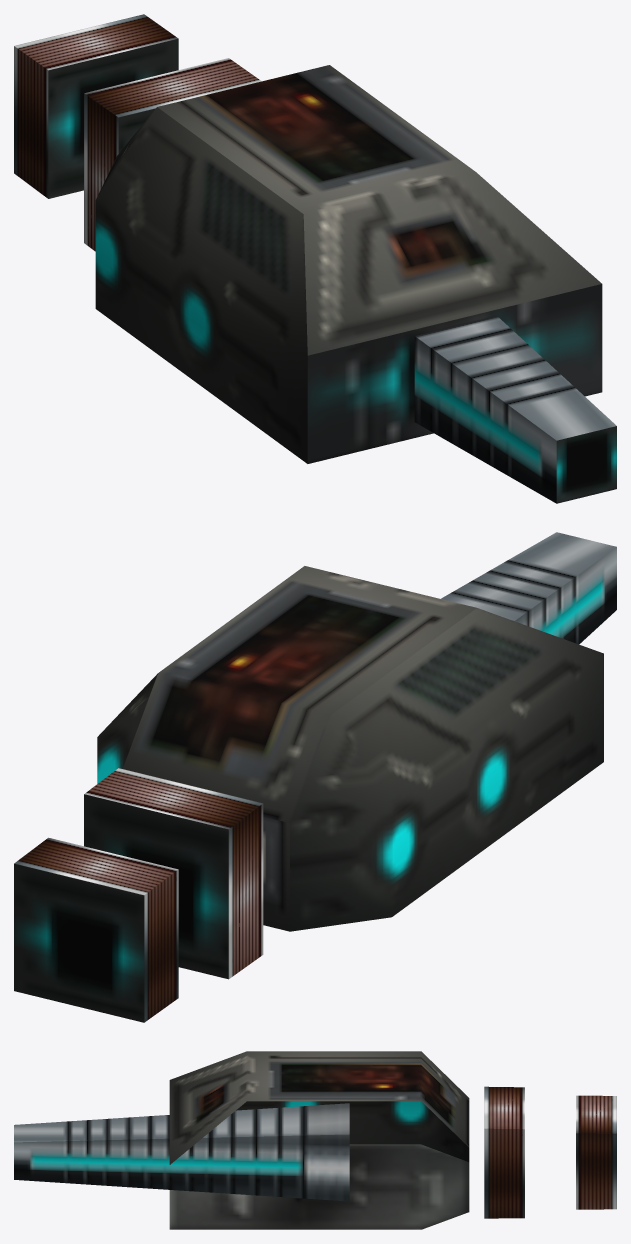
File: acs56_static.obj
3 views of the same model, one above another, from view 1: azimuth 30°, elevation 25°; view 2: azimuth 150°, elevation 25°; view 3: azimuth 270°, elevation 25° (orthographic). The views are drawn at different scales.
Parts seen in each view (by area): view 1: frm-wepbas, frm-wepbar1, frm-wepbar2, frm-wepbar3; view 2: frm-wepbas, frm-wepbar2, frm-wepbar3, frm-wepbar1; view 3: frm-wepbas, frm-wepbar1, frm-wepbar3, frm-wepbar2.
Part boxes in pixels (x1=…): frm-wepbas: x1=95, y1=65, x2=602, y2=463; frm-wepbar1: x1=414, y1=316, x2=616, y2=503; frm-wepbar2: x1=14, y1=14, x2=178, y2=198; frm-wepbar3: x1=84, y1=58, x2=261, y2=251; frm-wepbas: x1=97, y1=566, x2=603, y2=931; frm-wepbar2: x1=14, y1=837, x2=178, y2=1022; frm-wepbar3: x1=84, y1=768, x2=263, y2=979; frm-wepbar1: x1=441, y1=532, x2=616, y2=644; frm-wepbas: x1=169, y1=1051, x2=469, y2=1229; frm-wepbar1: x1=14, y1=1103, x2=349, y2=1201; frm-wepbar3: x1=484, y1=1086, x2=524, y2=1218; frm-wepbar2: x1=576, y1=1095, x2=616, y2=1209.
Bounding box in the file's own units: 0.1992 × 0.1321 × 0.5949.
